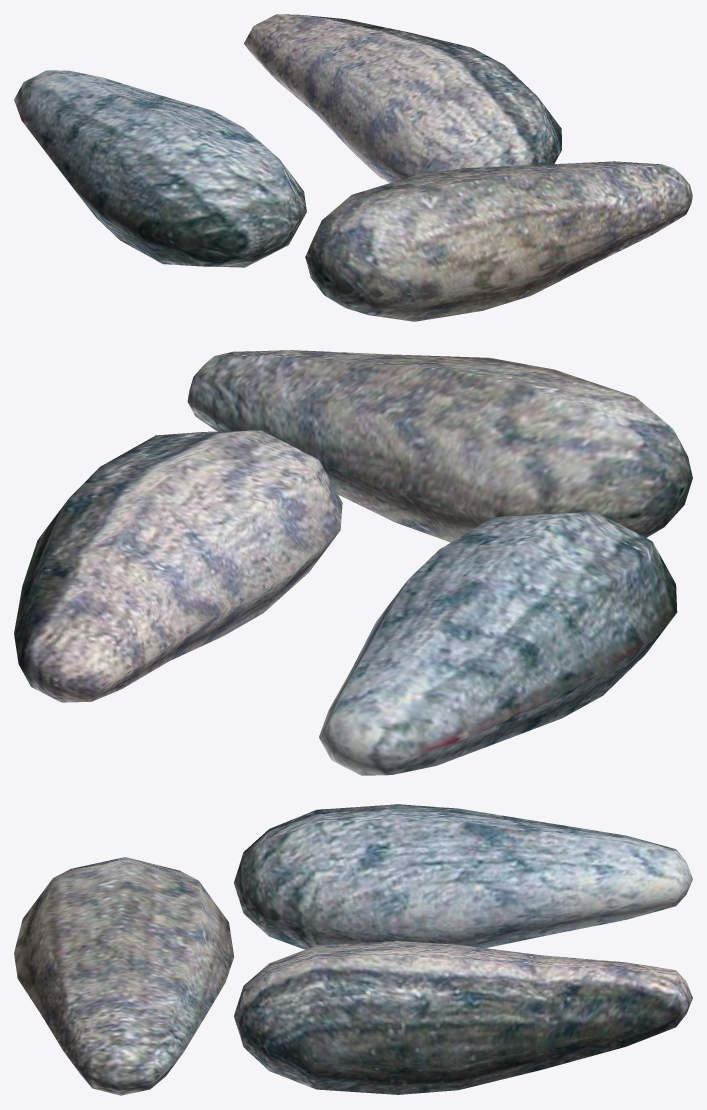
The model's file is niubangi.FBX.
The picture shows the model from 3 angles, top to bottom: view 1: azimuth 30°, elevation 25°; view 2: azimuth 150°, elevation 25°; view 3: azimuth 270°, elevation 25°; orthographic projection. The views are drawn at different scales.
Visible parts, largest first — view 1: Cylinder003, Cylinder001, Cylinder002; view 2: Cylinder003, Cylinder001, Cylinder002; view 3: Cylinder002, Cylinder001, Cylinder003.
Part boxes in pixels (bbox=[...]): Cylinder003: bbox=[305, 161, 692, 321]; Cylinder001: bbox=[14, 70, 306, 267]; Cylinder002: bbox=[244, 14, 561, 182]; Cylinder003: bbox=[187, 350, 692, 542]; Cylinder001: bbox=[319, 511, 677, 775]; Cylinder002: bbox=[14, 430, 342, 702]; Cylinder002: bbox=[234, 941, 692, 1094]; Cylinder001: bbox=[234, 804, 692, 949]; Cylinder003: bbox=[14, 857, 233, 1095].
Bounding box in the file's own units: 406 × 96.16 × 475.
1 material, 1 textured.
